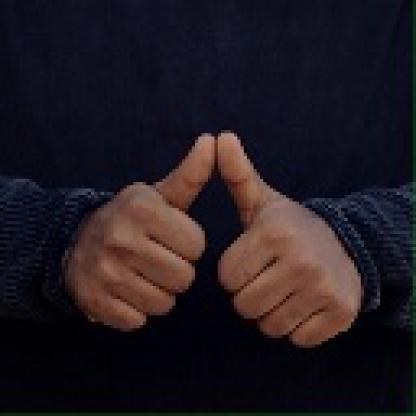A: (65, 130, 362, 346)
